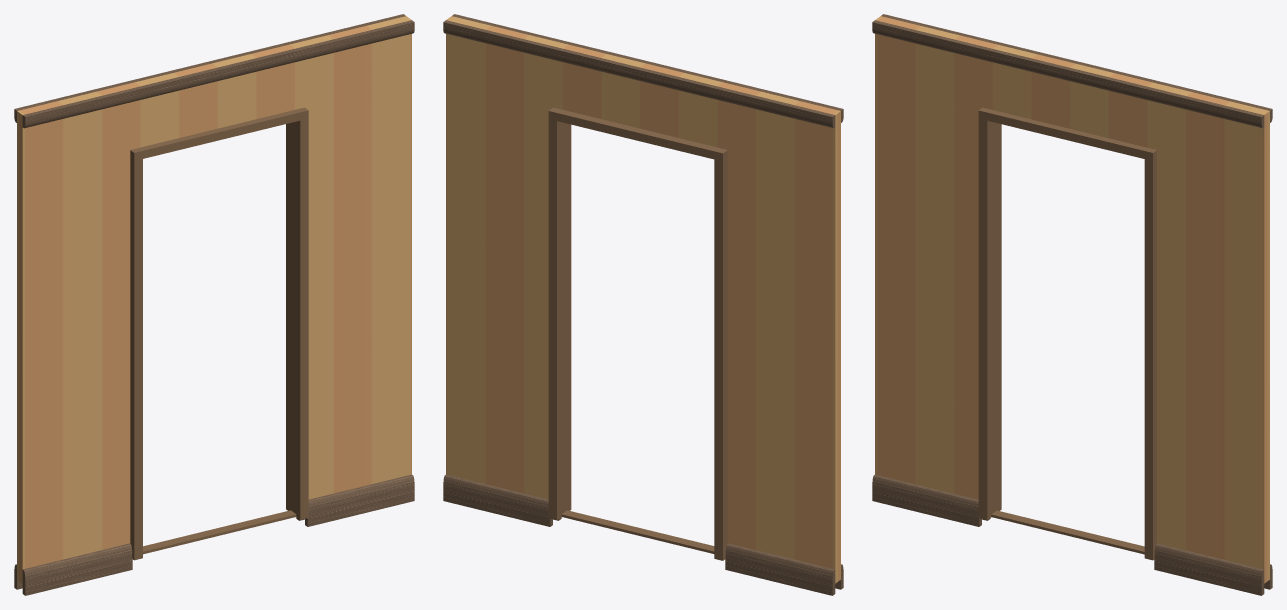
The model's file is House_doorOpenV2.fbx.
3 views of the same model, side by side, from view 1: azimuth 30°, elevation 25°; view 2: azimuth 150°, elevation 25°; view 3: azimuth 330°, elevation 25° (orthographic).
Parts seen in each view (by area): view 1: wall_basic.003, plint_top.001, plint_floorleft.001, plint_floorRight.001, plint_top.002; view 2: wall_basic.003, plint_top.002, plint_floorRight.002, plint_floorleft.002, plint_top.001; view 3: wall_basic.003, plint_top.001, plint_floorRight.001, plint_floorleft.001, plint_top.002.
Part boxes in pixels (x1,y1,x2,y2): wall_basic.003: (17,16,411,583); plint_top.001: (22,20,414,128); plint_floorleft.001: (22,543,132,595); plint_floorRight.001: (305,474,414,526); plint_top.002: (14,14,405,122); wall_basic.003: (446,16,840,583); plint_top.002: (443,20,835,128); plint_floorRight.002: (725,543,835,595); plint_floorleft.002: (443,474,552,526); plint_top.001: (452,14,843,122); wall_basic.003: (875,16,1269,583); plint_top.001: (872,20,1264,128); plint_floorRight.001: (1154,543,1264,595); plint_floorleft.001: (872,474,981,526); plint_top.002: (881,14,1272,122).
Size of the model in its own units: 200 by 235 by 12.77.
Materials: 5 (4 with a texture image).
